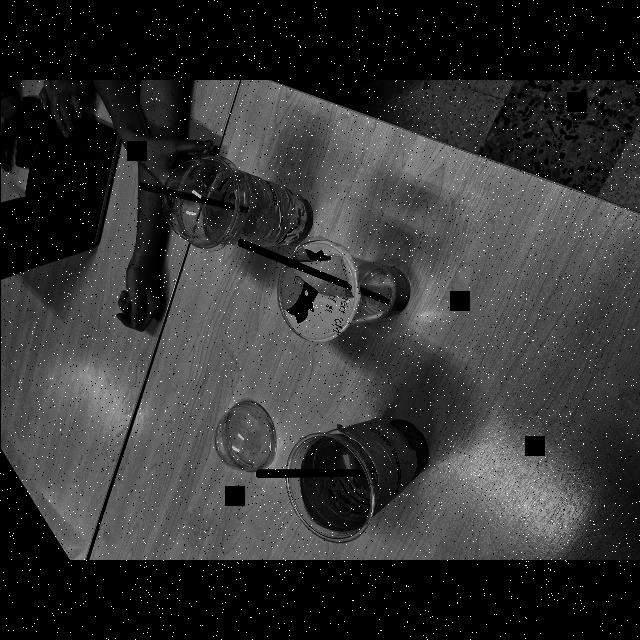plastic_cup: (276, 426, 437, 542), (278, 238, 410, 348), (188, 154, 304, 256)
plastic_cup_lid: (162, 145, 242, 249), (208, 396, 278, 474)
straw: (230, 234, 394, 314), (126, 172, 244, 224), (251, 455, 377, 499)
